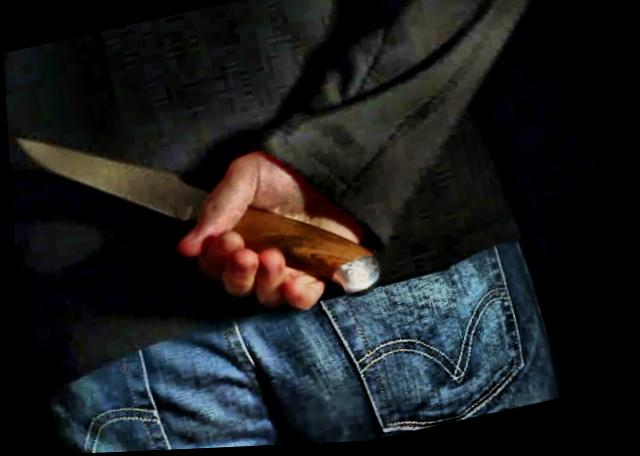knife: (4, 70, 328, 371)
